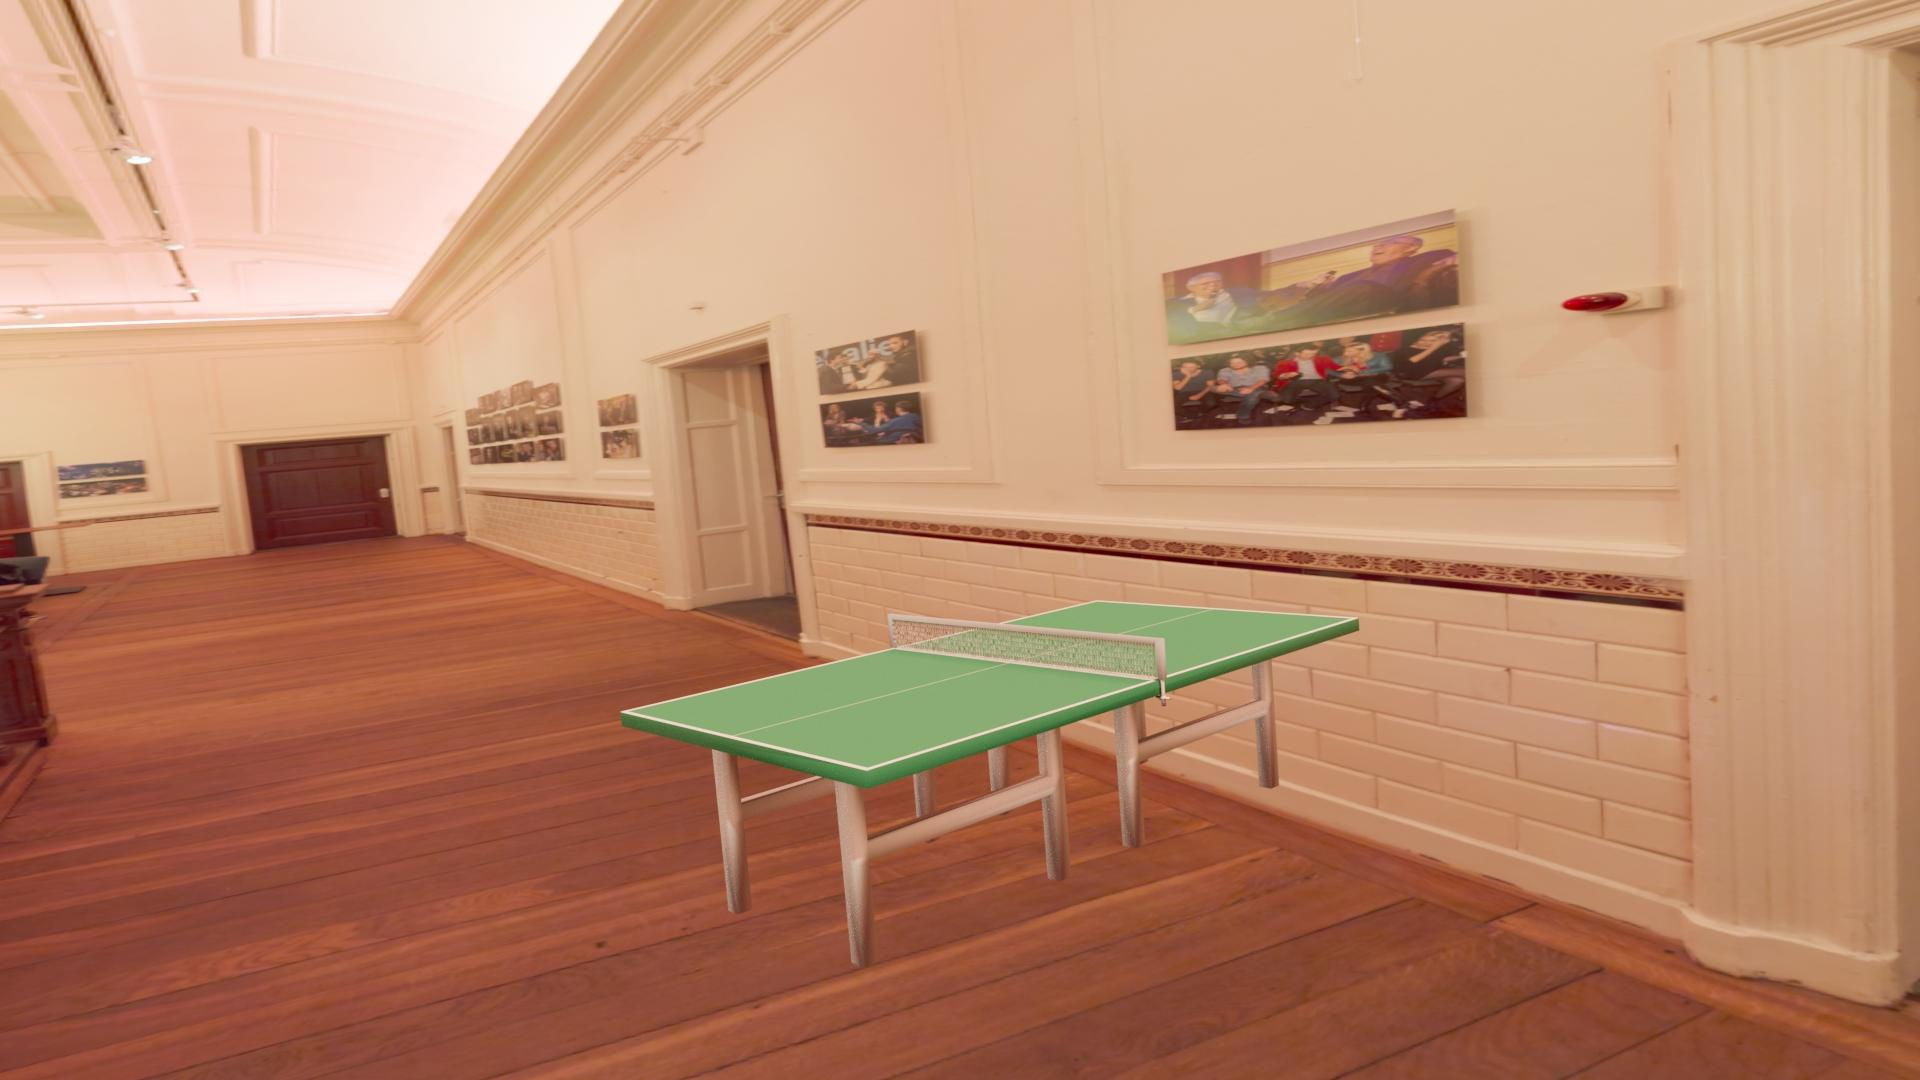table: (628, 601, 1352, 767)
